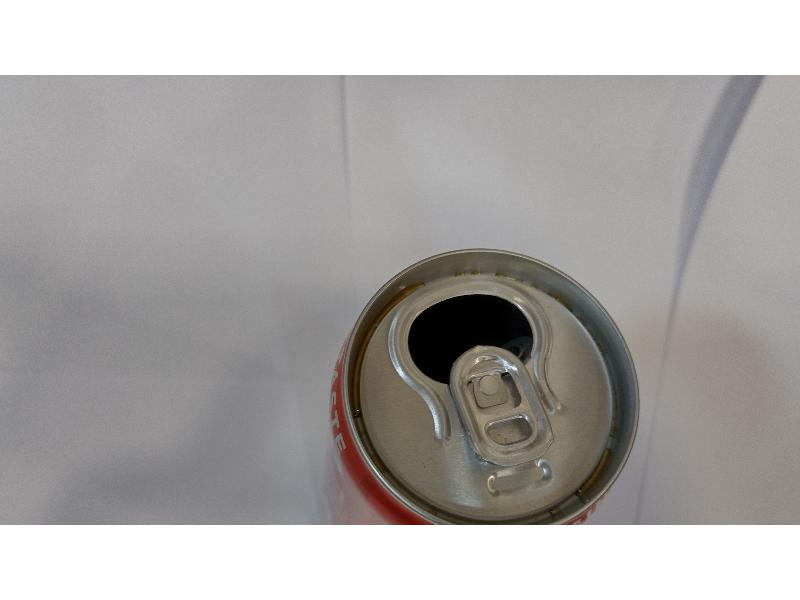can: (327, 240, 650, 522)
